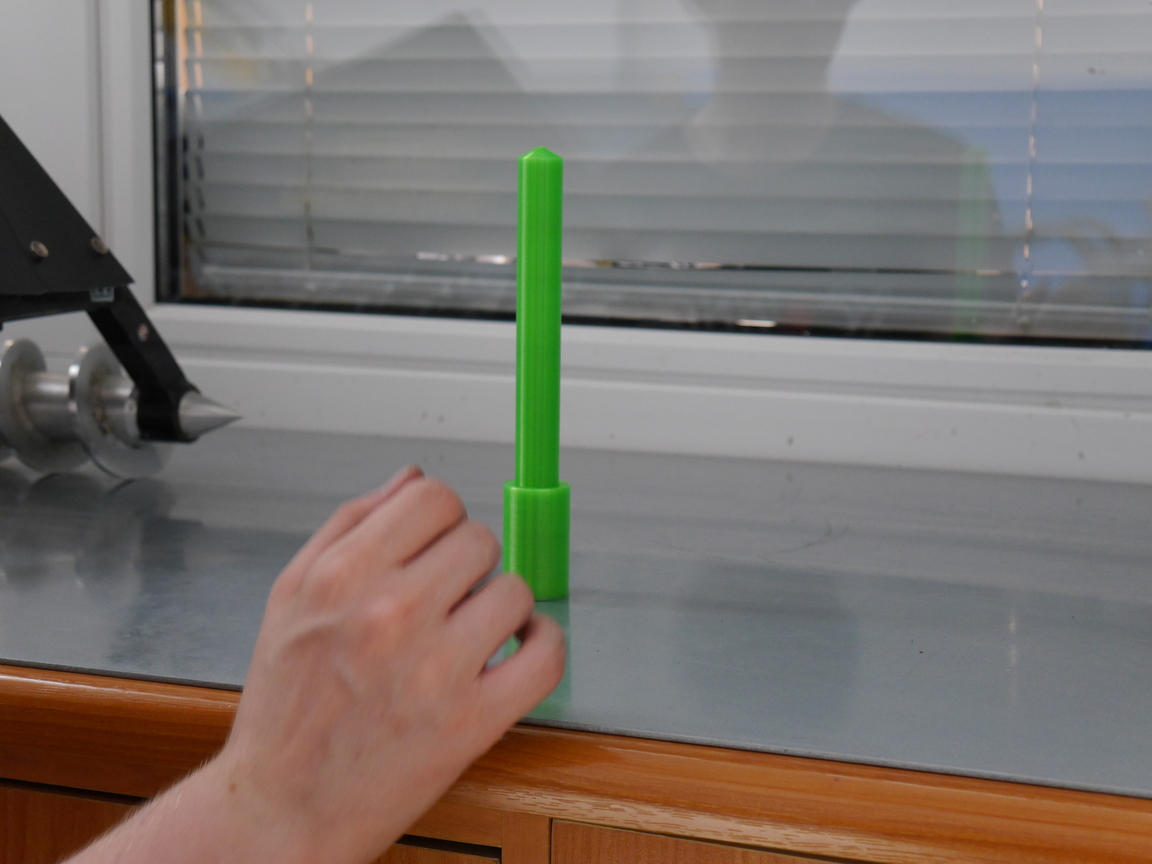cargo_g: (499, 148, 571, 606)
